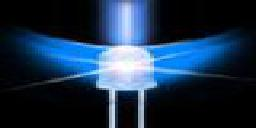LED: (91, 43, 161, 95)
